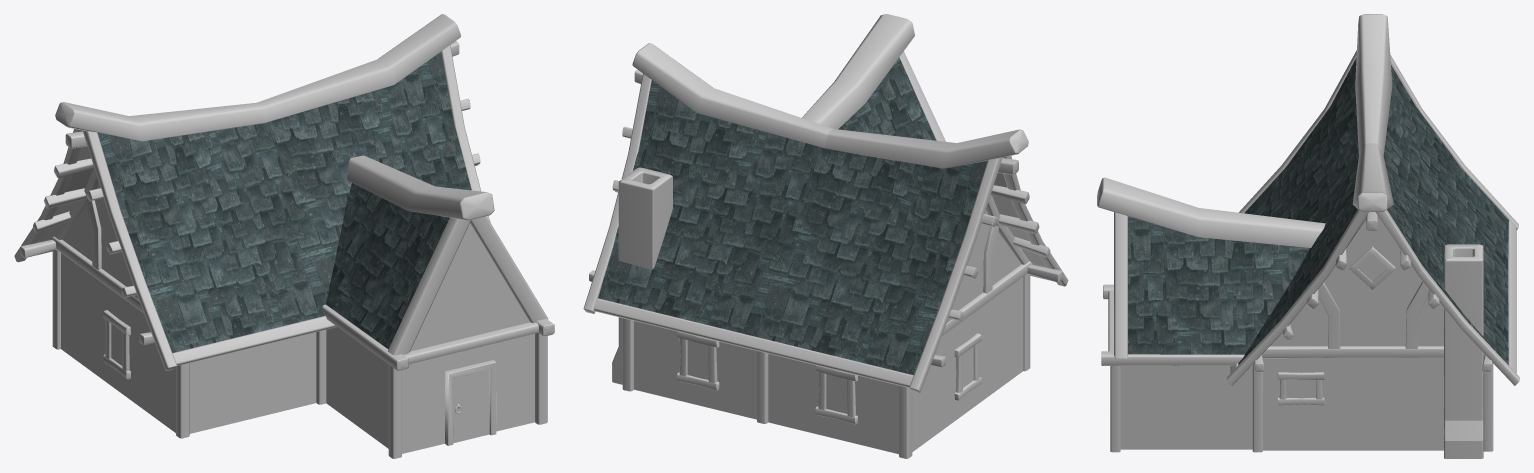
File: house16.fbx
3 views of the same model, side by side, from view 1: azimuth 30°, elevation 25°; view 2: azimuth 150°, elevation 25°; view 3: azimuth 270°, elevation 25° (orthographic). The views are drawn at different scales.
Parts seen in each view (by area): view 1: house16; view 2: house16; view 3: house16.
Boxes of the visible parts, x1=… form: house16: x1=14, y1=14, x2=554, y2=458; house16: x1=583, y1=14, x2=1068, y2=458; house16: x1=1097, y1=14, x2=1519, y2=458.
Size of the model in its own units: 1318 by 949 by 1293.
